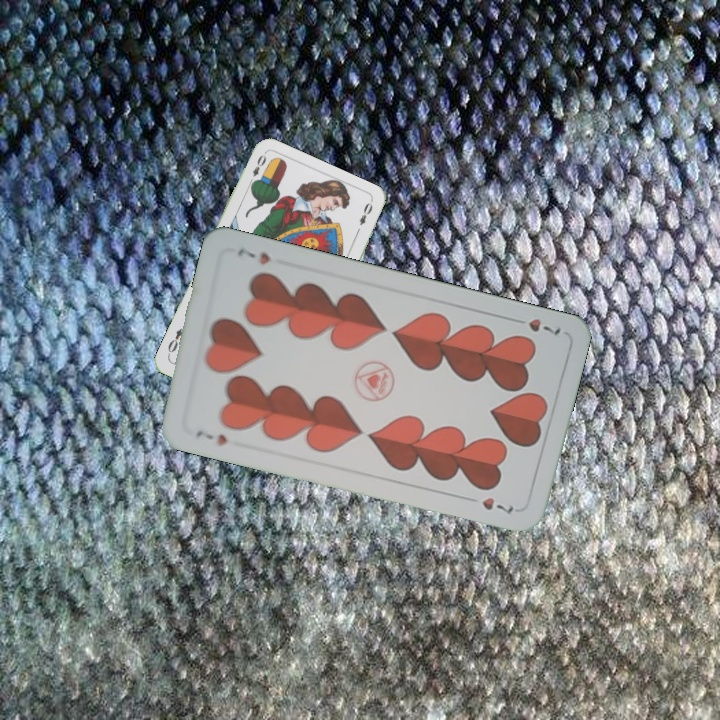EO: (245, 151, 269, 189)
H7: (508, 313, 563, 338), (192, 426, 230, 449)
